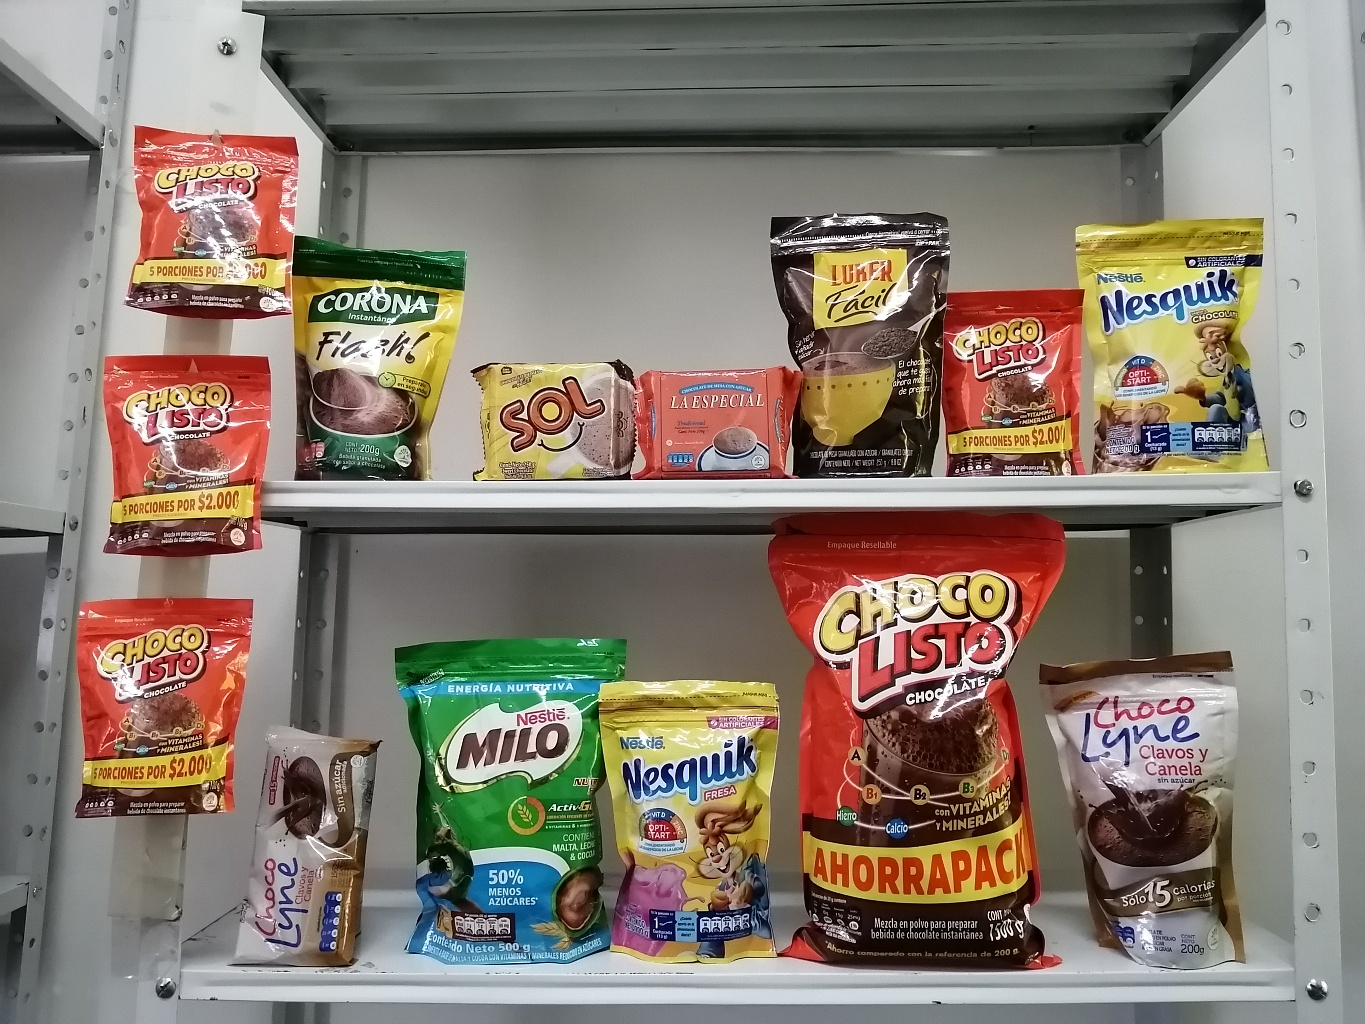COL0170103DYP1,500: (767, 501, 1065, 971)
COL0170205DYP50000: (380, 607, 613, 972)
COL0170303DYP20000: (1069, 215, 1284, 472)
COL0170305DYP20000: (605, 680, 795, 962)
